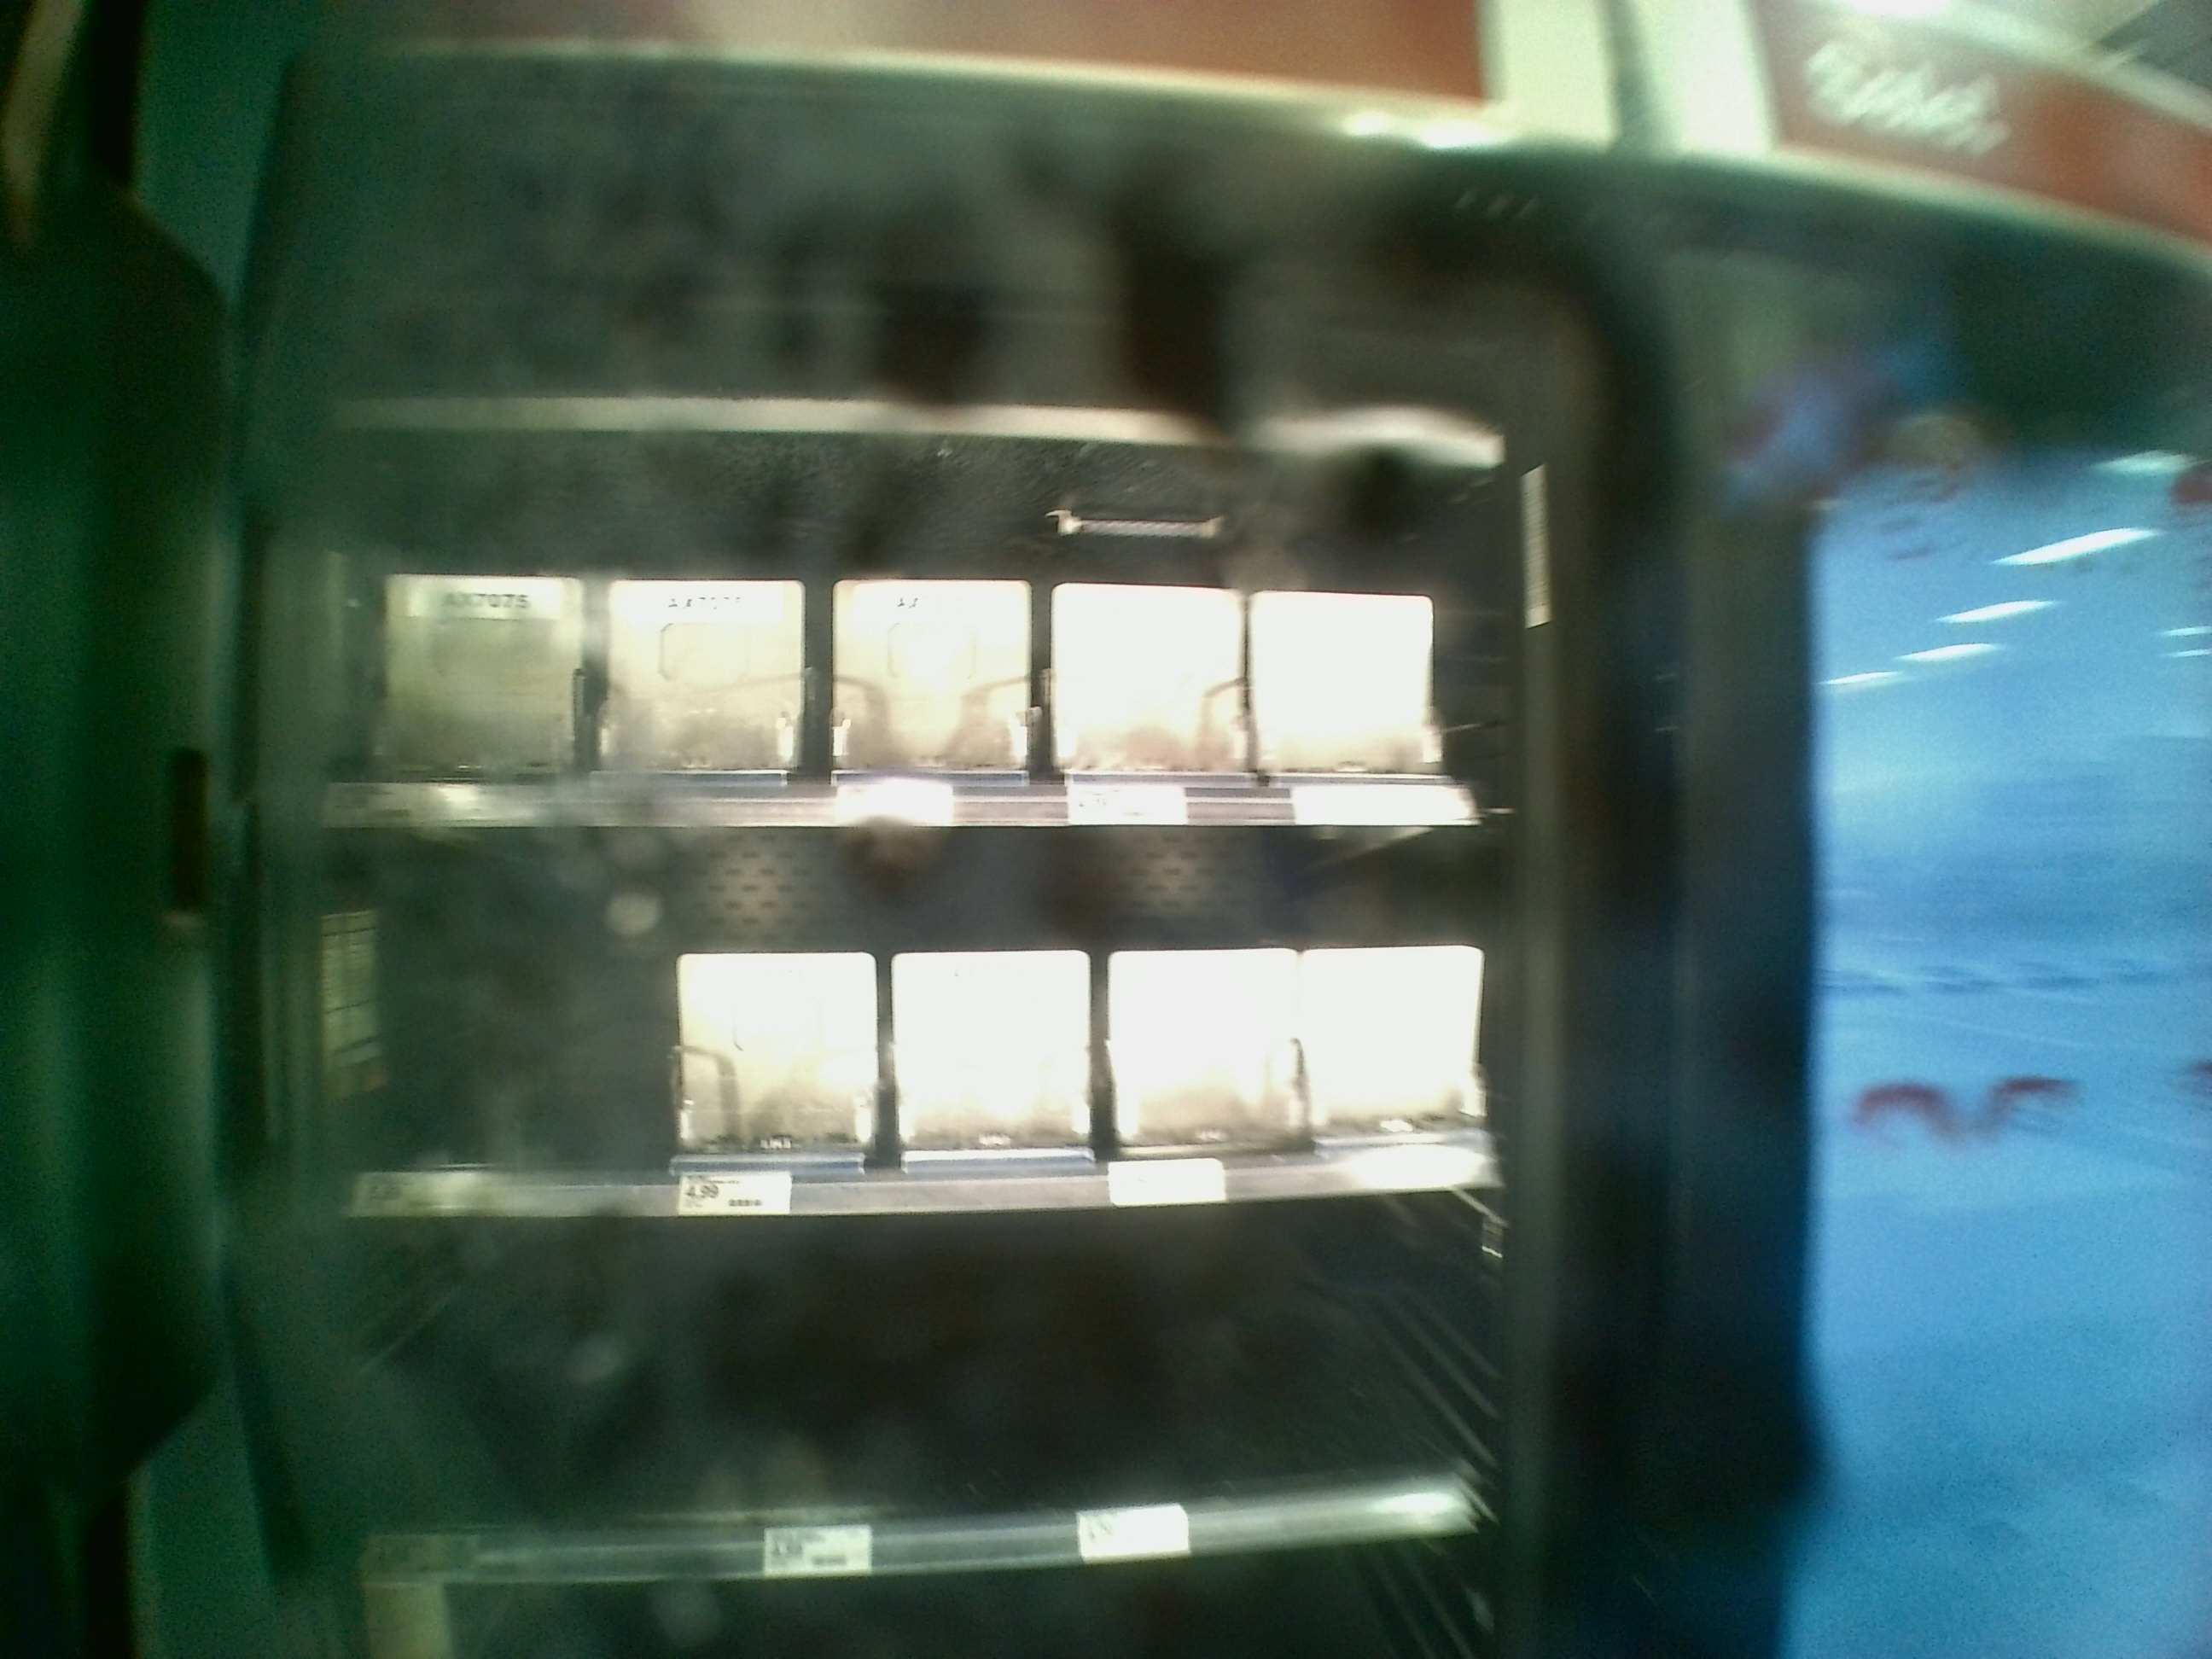shelf: (338, 798, 1480, 1176), (364, 1192, 1474, 1532), (303, 476, 1470, 798)
